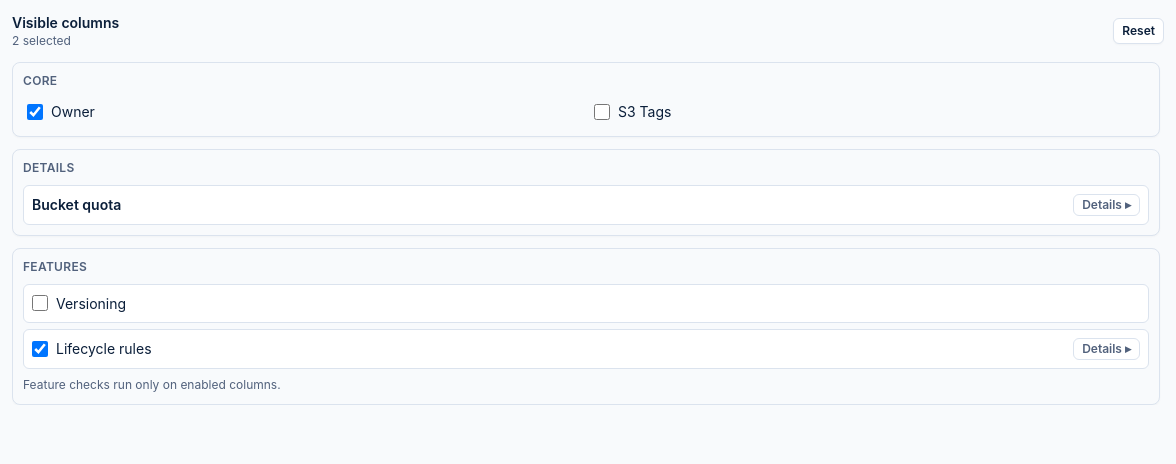
Test: ColumnVisibilityPicker › opens details and toggles a detail column
This screenshot has width=1176, height=464.
Check: the text "Lifecycle rules" is shown, box [56,340,152,357]
Click the button "Details ▸" in the row of "Lifecycle rules".
click(1107, 349)  # box [1073,338,1140,360]
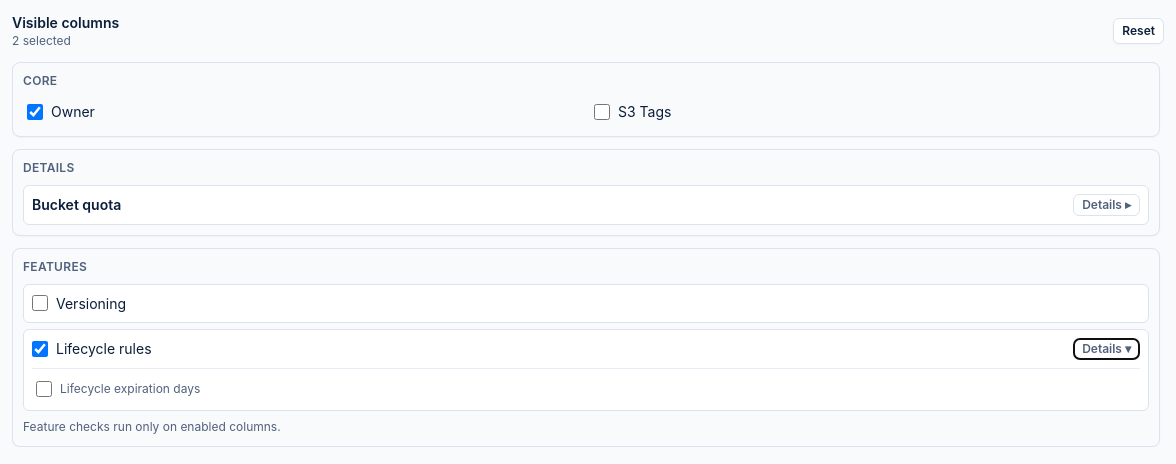
Check: the checkbox labelled "Lifecycle expiration days" is shown
Click the checkbox labelled "Lifecycle expiration days".
click(44, 389)  # box [36,381,52,397]
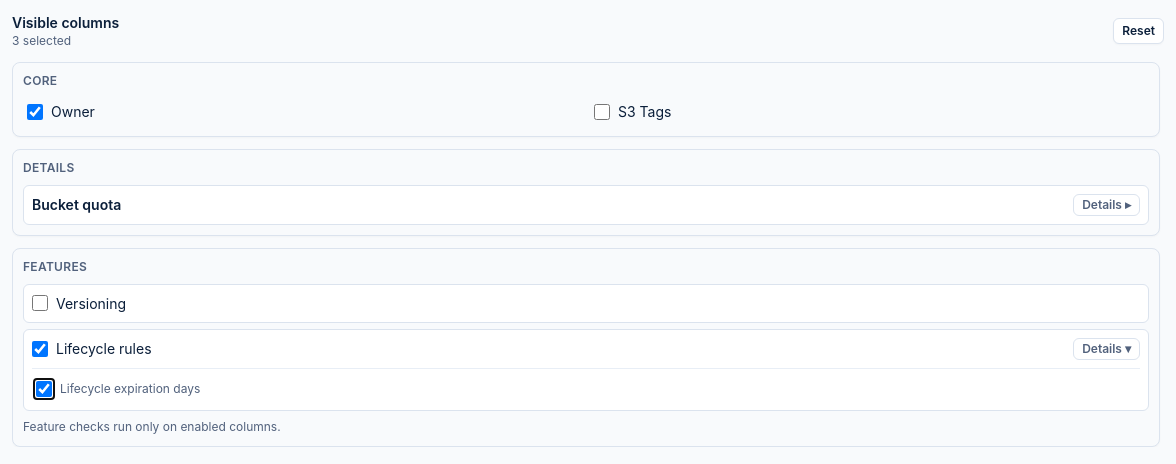
Check: the text "3 selected" is shown, box [12,33,71,48]
